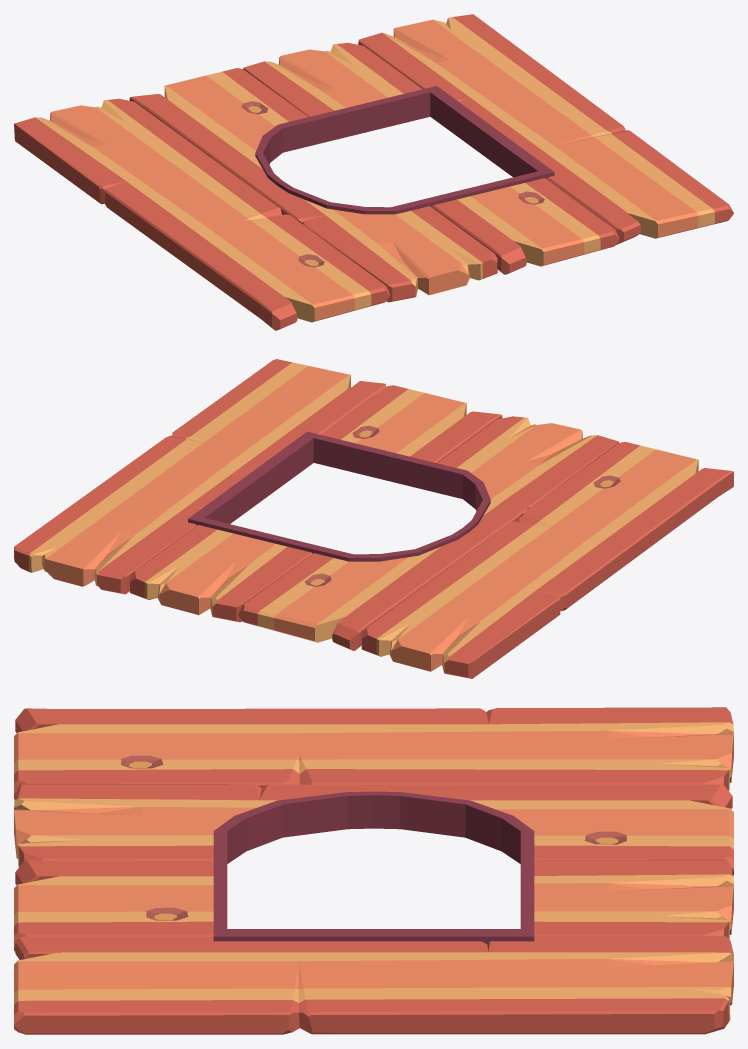
Rendered from PlankWindow.fbx.
3 renders of one model, top to bottom at view 1: azimuth 30°, elevation 25°; view 2: azimuth 150°, elevation 25°; view 3: azimuth 270°, elevation 25°, orthographic. The views are drawn at different scales.
Visible parts, largest first — view 1: Cube.004, Cube.008, Cube.002; view 2: Cube.004, Cube.008, Cube.002; view 3: Cube.004, Cube.008, Cube.002.
Boxes of the visible parts, left/top/right/bottom form: Cube.004: left=14, top=43, right=619, bottom=330; Cube.008: left=358, top=14, right=733, bottom=244; Cube.002: left=255, top=86, right=554, bottom=214; Cube.004: left=129, top=385, right=733, bottom=678; Cube.008: left=14, top=359, right=386, bottom=594; Cube.002: left=188, top=431, right=490, bottom=561; Cube.004: left=14, top=707, right=733, bottom=951; Cube.008: left=14, top=936, right=733, bottom=1034; Cube.002: left=213, top=791, right=534, bottom=944.
Bounding box in the file's own units: 300 × 15.28 × 300.
